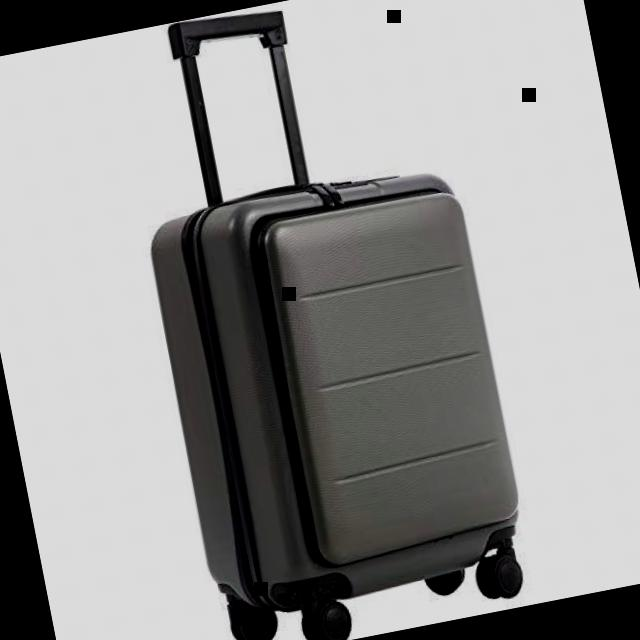luggage: (130, 140, 551, 640)
